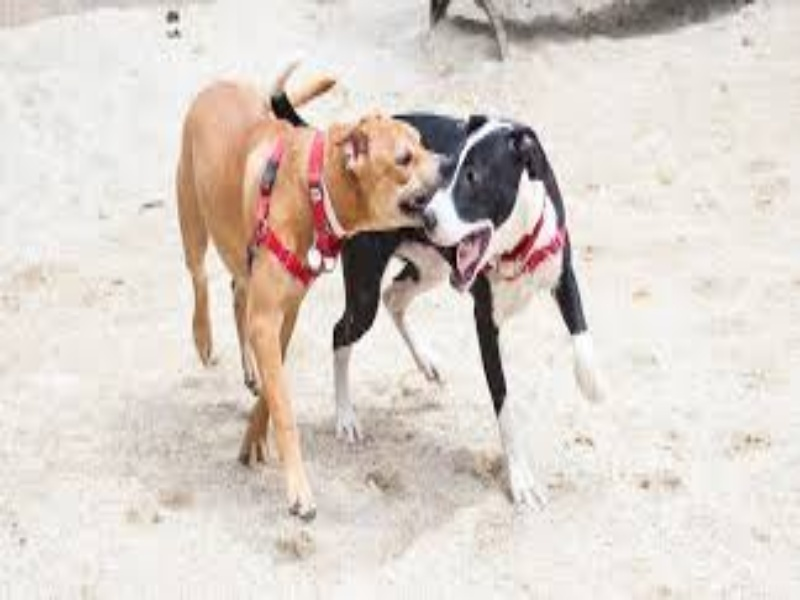dog: (166, 65, 441, 535), (433, 105, 623, 533)
